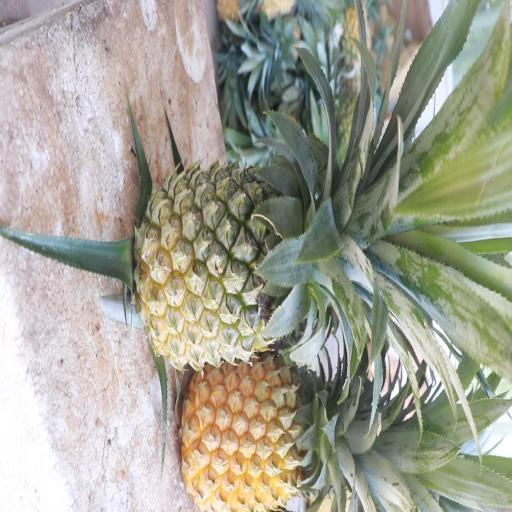------------------------------: (141, 165, 325, 367)
Pineapple - v8 v1: (186, 358, 353, 512)
